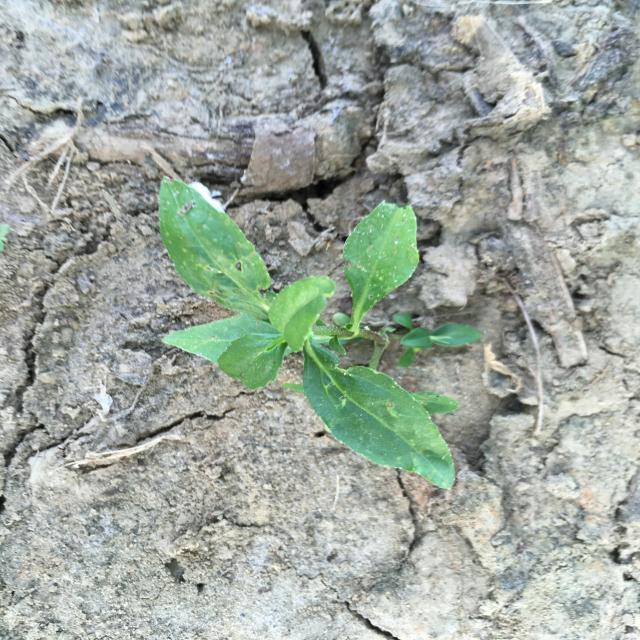Eclipta: (158, 176, 482, 492)
